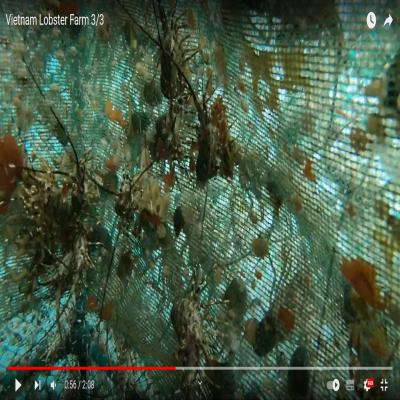lobster: (170, 294, 209, 389), (194, 111, 222, 182), (159, 24, 182, 98), (157, 111, 182, 166), (114, 180, 138, 235)
